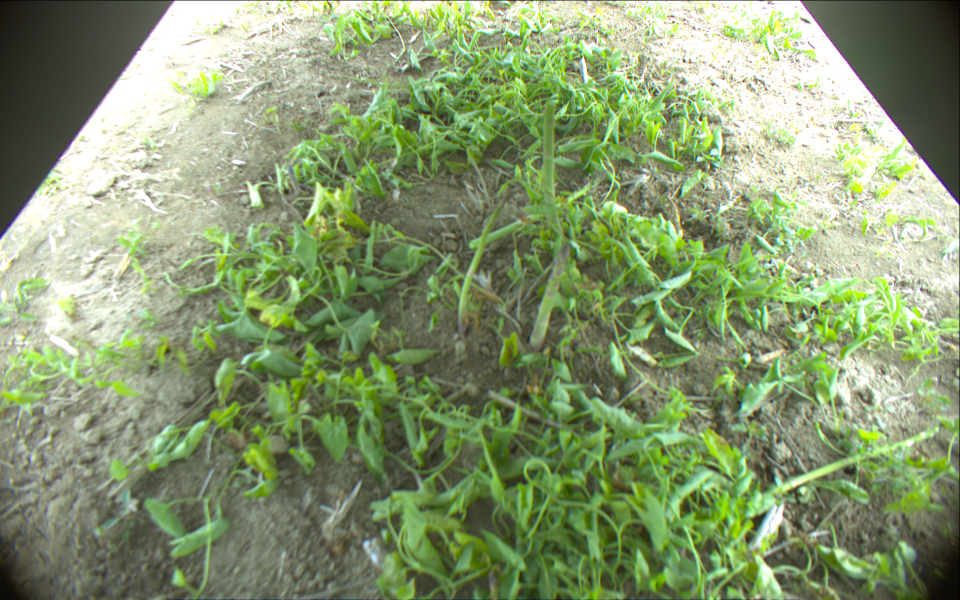aspa: (765, 426, 940, 498), (469, 177, 600, 249), (458, 184, 513, 338), (529, 243, 571, 350), (542, 100, 558, 235)
